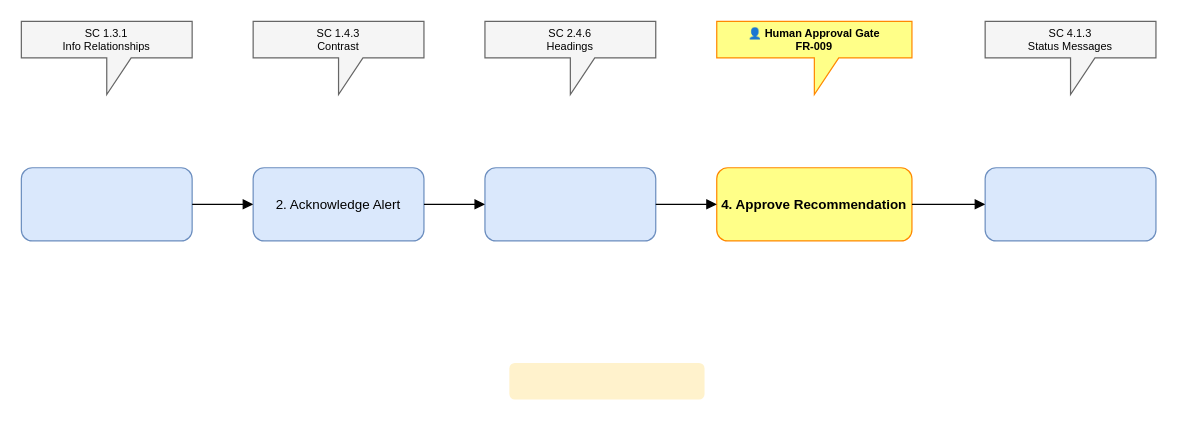
The diagram is 1177 pixels wide and 421 high, and some of its shapes have lost their labels. Each missing label, with the centre of its shape:
1. Sign-in: [106,204]
3. Review Situation: [570,204]
5. Monitor Outcome: [1070,204]
FR-026, FR-009: [606,380]
